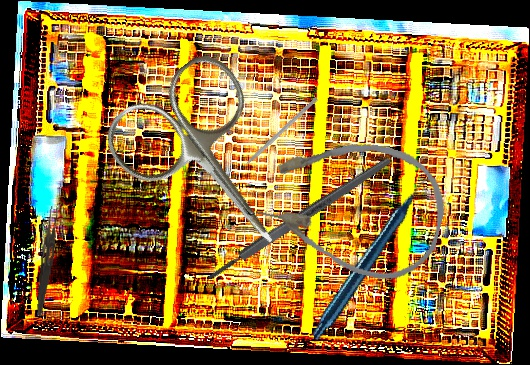Cannula: (248, 120, 456, 291)
Chopper: (230, 92, 319, 176)
Dressing Forceps: (35, 205, 59, 317)
Handpiece: (276, 174, 474, 343)
Iris Scissors: (94, 44, 329, 287)
Scalpel Handle: (205, 155, 393, 283)
